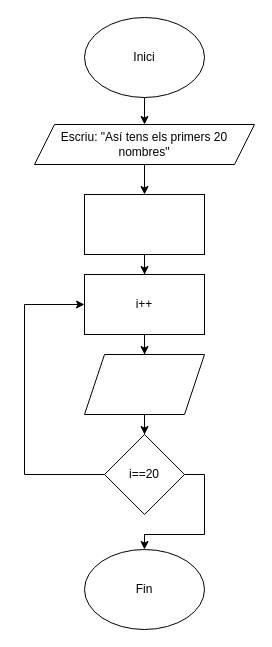
Image size: 272x647. Some labels were removed from this diagram. The shapes that lost their labels are listed below. From the top down, each one's centre as x and y in pixels, then its label:
At [144,224]: "i=0".
At [144,384]: "Escriu: i".
